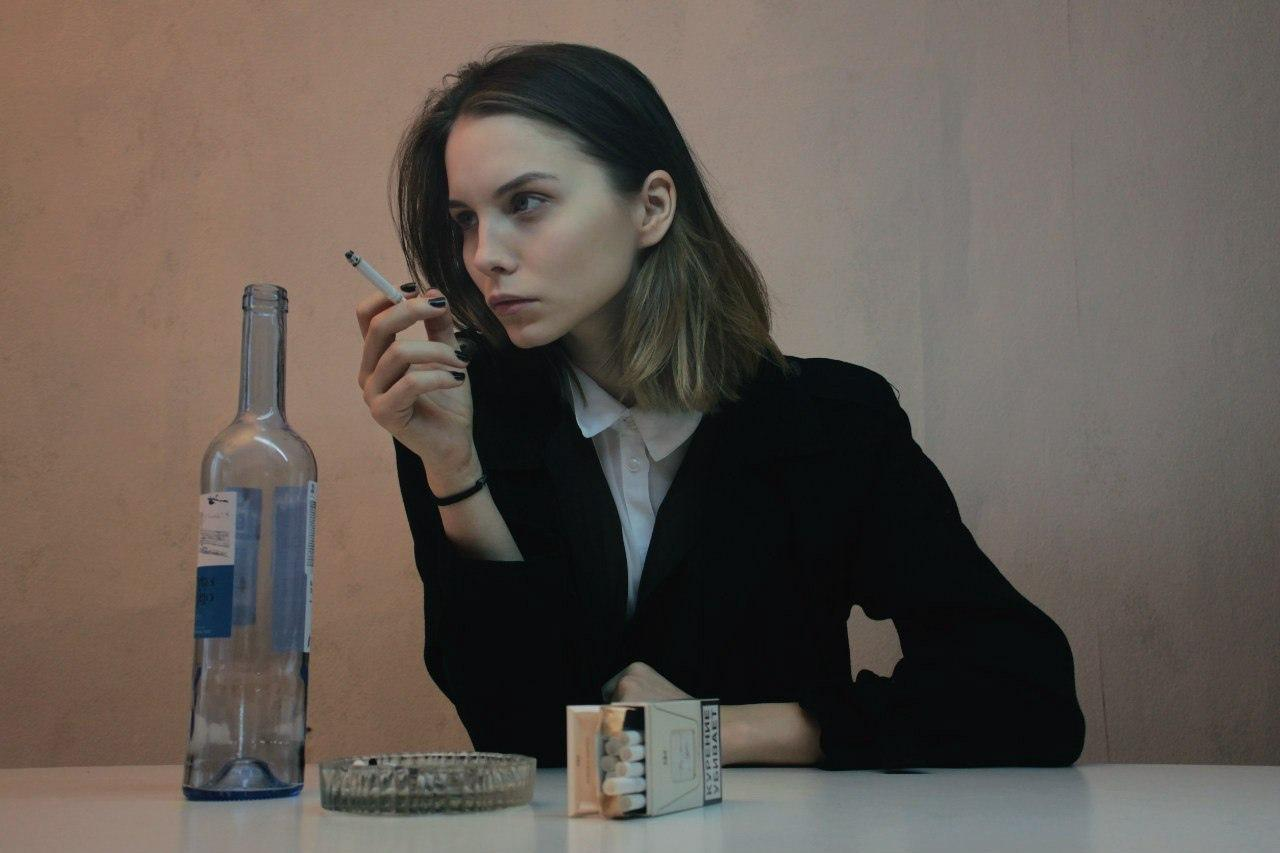cigarette: (344, 248, 407, 304)
